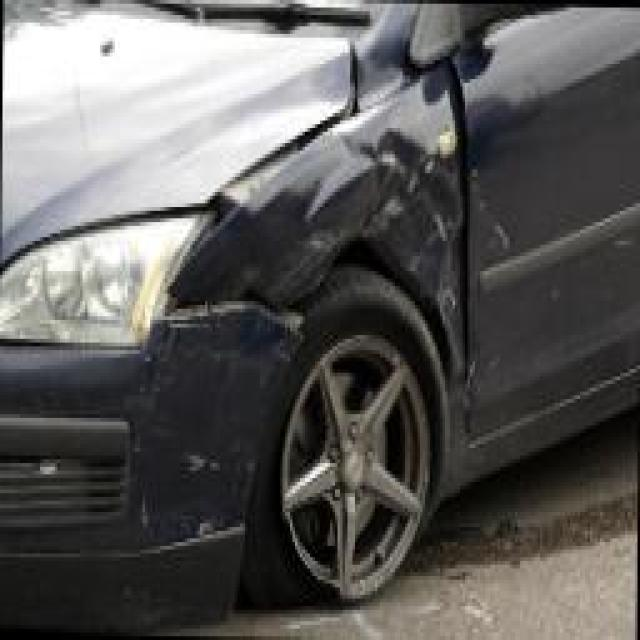Bumper: (0, 319, 301, 560)
Fender: (172, 74, 493, 444)
